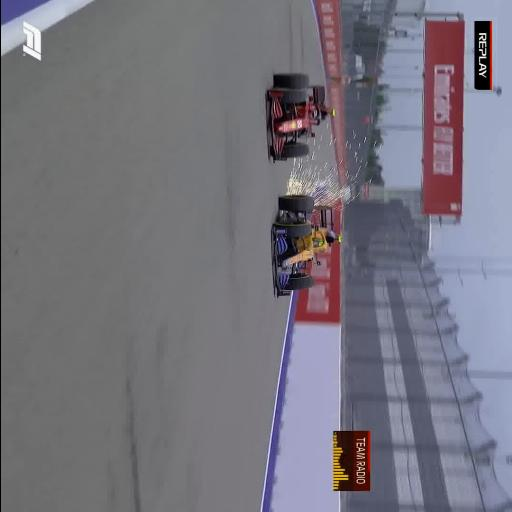f1_car: (272, 195, 339, 297), (267, 73, 334, 161)
